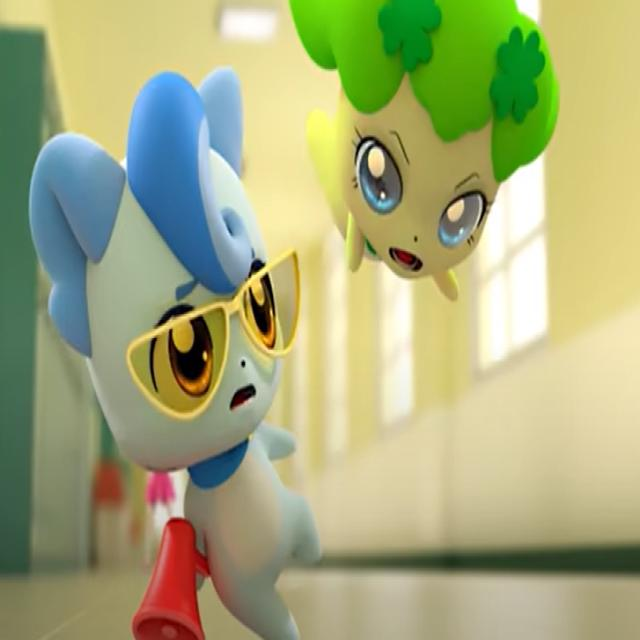Chachaping: (287, 1, 559, 303)
